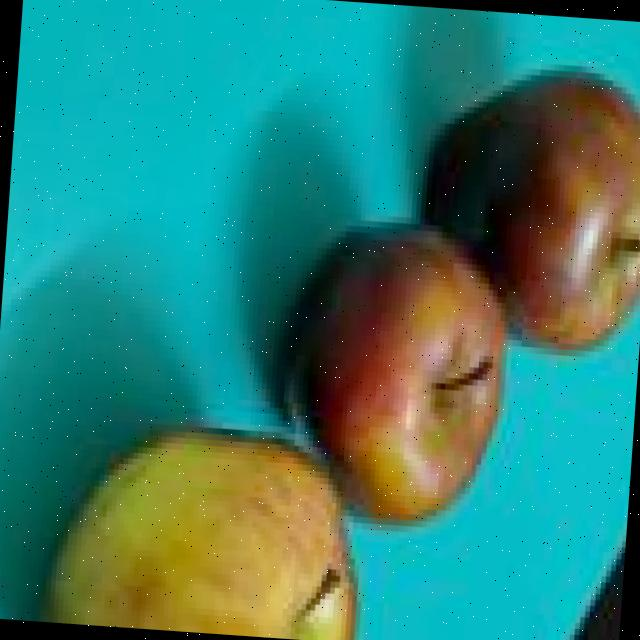Bad_Apple 0-1 day: (45, 72, 640, 640)
